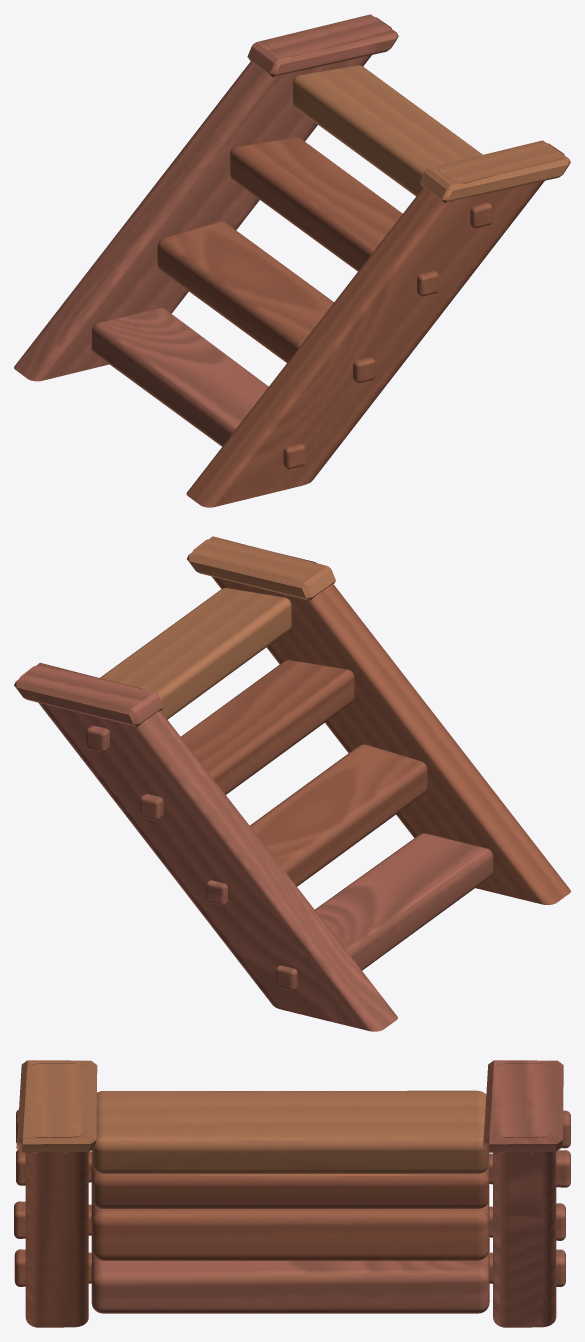
File: stairs_middle_2x1.fbx
3 renders of one model, top to bottom at view 1: azimuth 30°, elevation 25°; view 2: azimuth 150°, elevation 25°; view 3: azimuth 270°, elevation 25°, orthographic. The views are drawn at different scales.
Parts seen in each view (by area): view 1: stairs_middle_2x1; view 2: stairs_middle_2x1; view 3: stairs_middle_2x1.
Boxes of the visible parts, left/top/right/bottom form: stairs_middle_2x1: left=14, top=14, right=570, bottom=507; stairs_middle_2x1: left=14, top=536, right=570, bottom=1031; stairs_middle_2x1: left=14, top=1060, right=570, bottom=1327.
Size of the model in its own units: 1.45 by 1 by 1.41.
